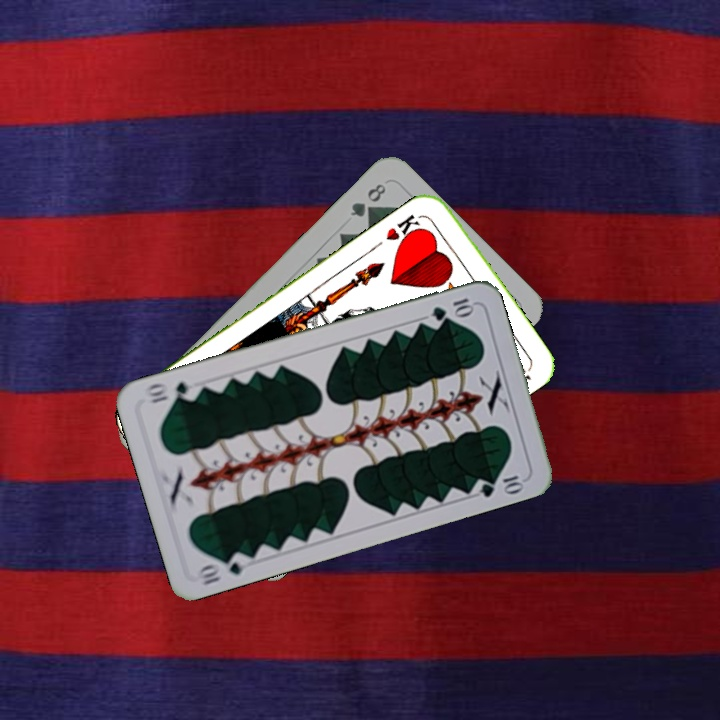G10: (193, 548, 252, 588), (427, 294, 477, 323)
G8: (346, 179, 389, 220)
HK: (382, 210, 427, 249)
